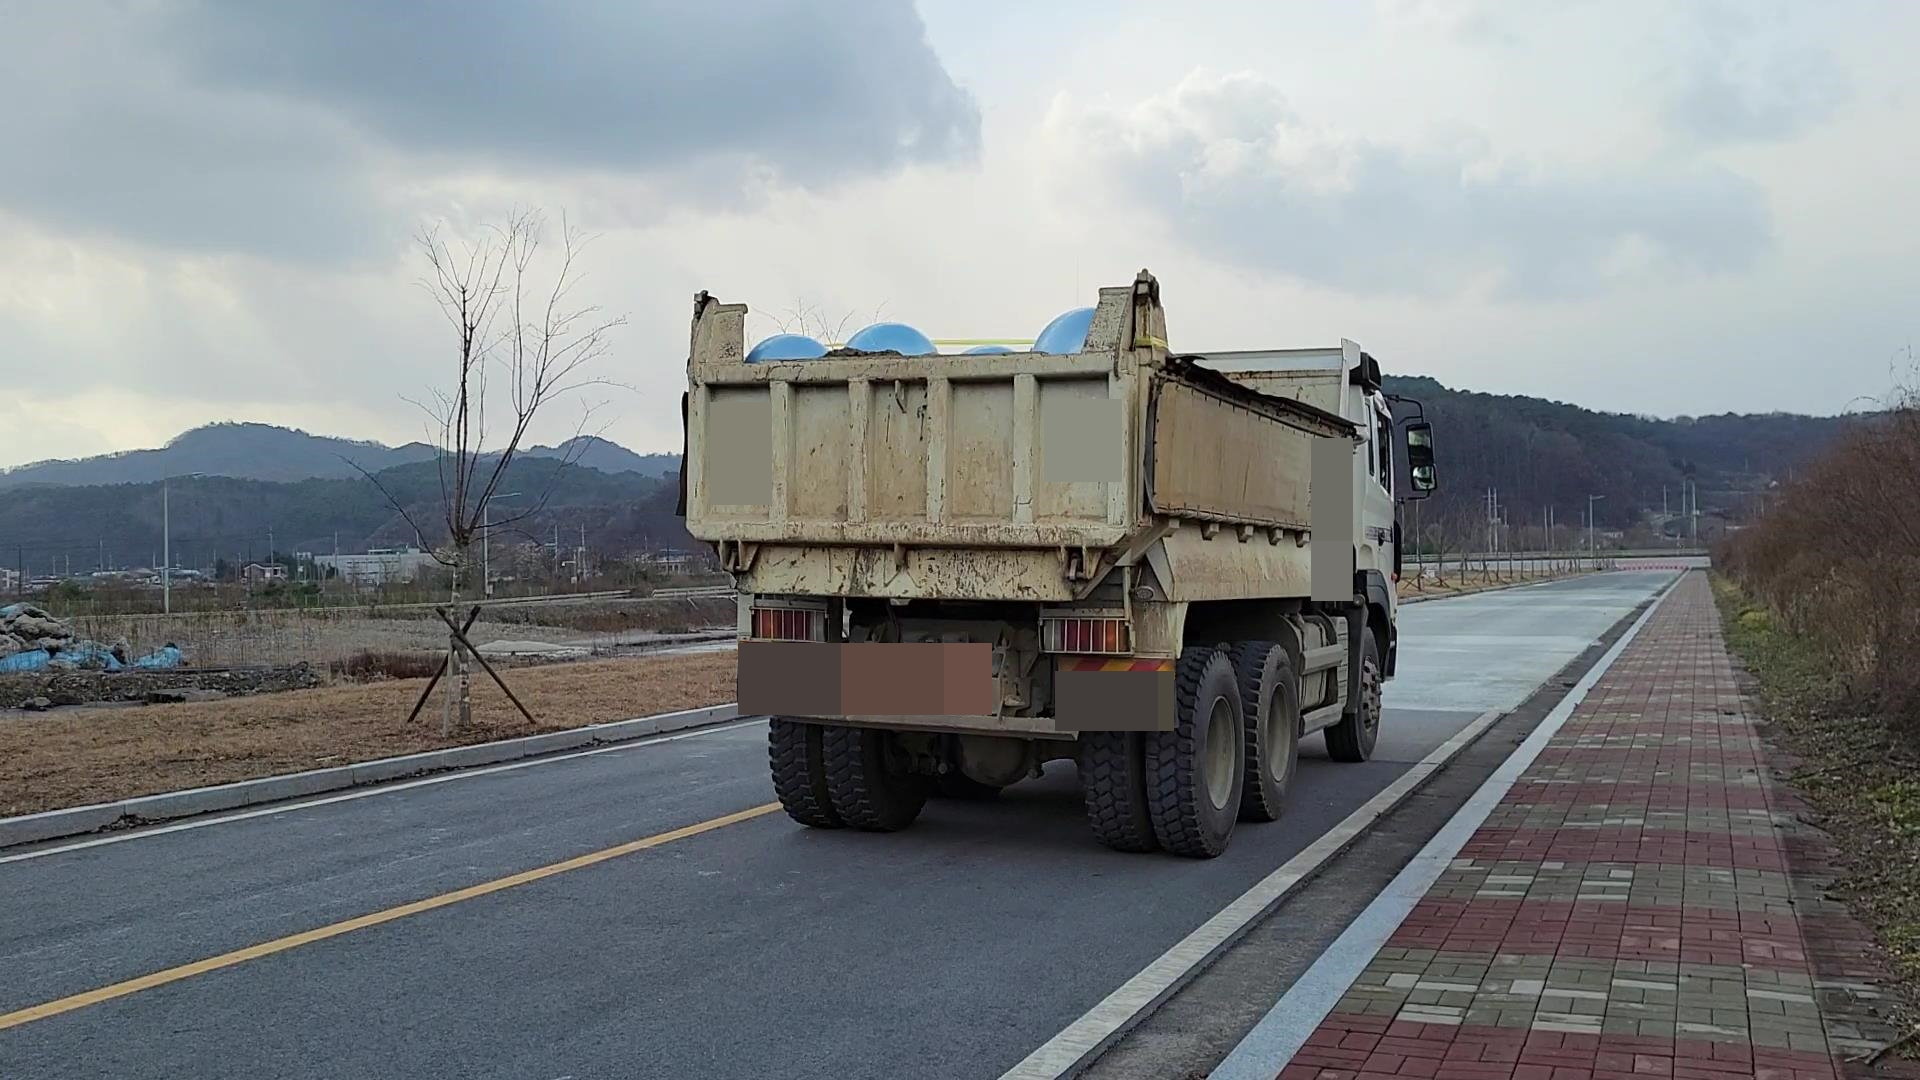불법차량: (675, 268, 1440, 858)
